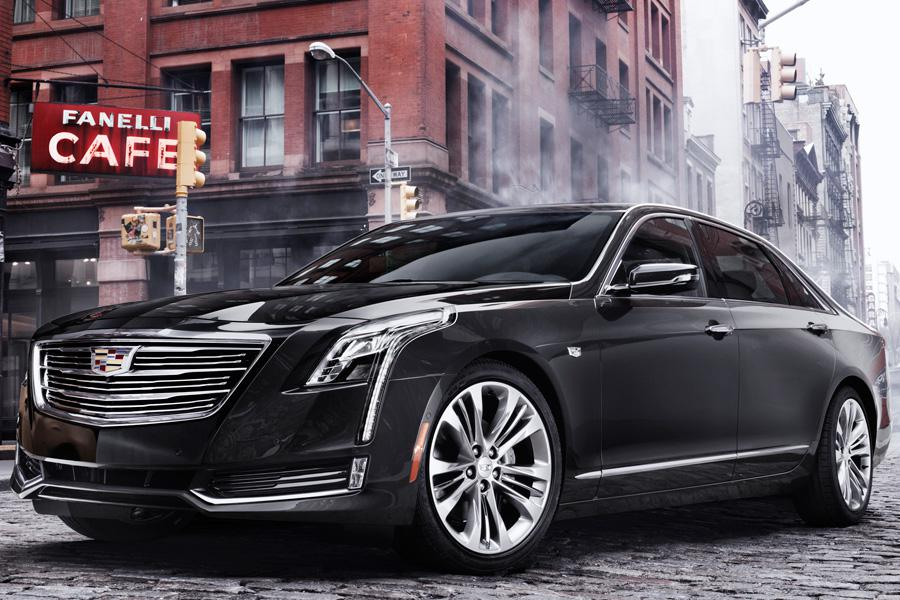car: (17, 195, 894, 564)
